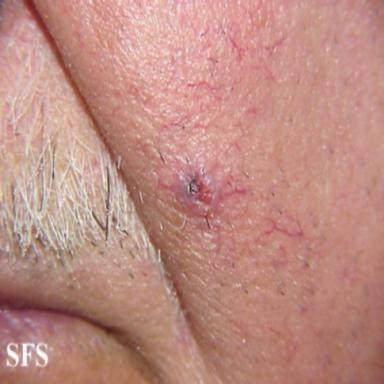basal-cell-carcinoma: (172, 165, 224, 218)
